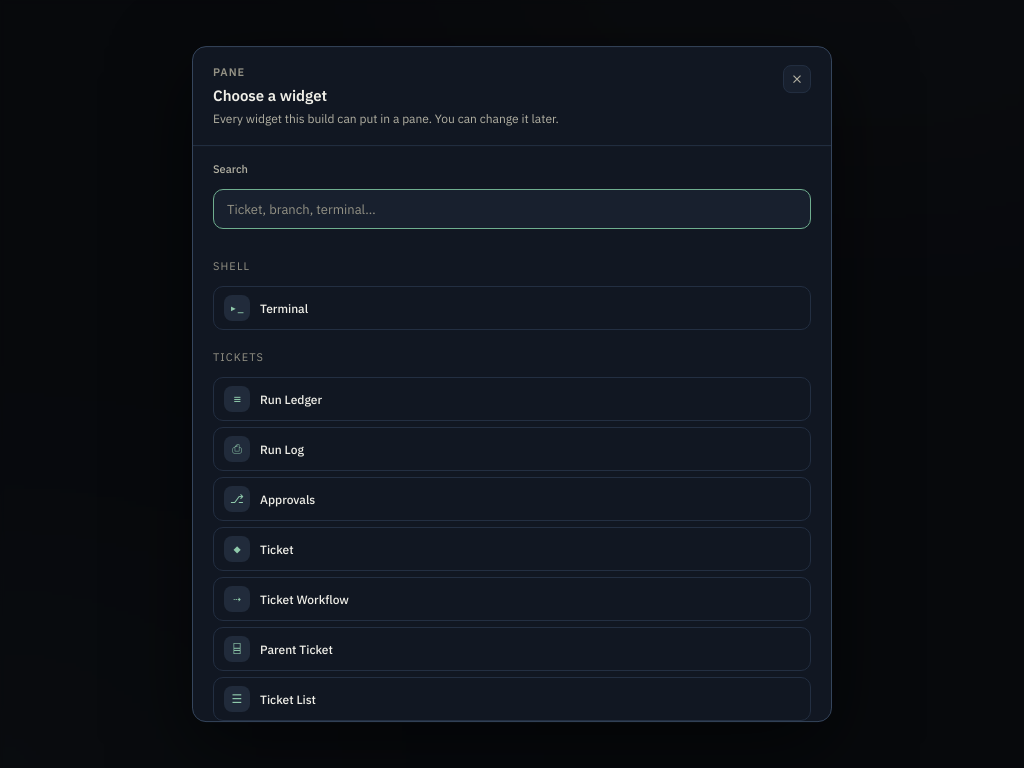
Test case: AC4 — search › says so when nothing matches, rather than showing an empty dialog
This screenshot has width=1024, height=768.
Type "zzzzz" into the search field labelled "Search" at (512, 209), box [213,189,811,229]
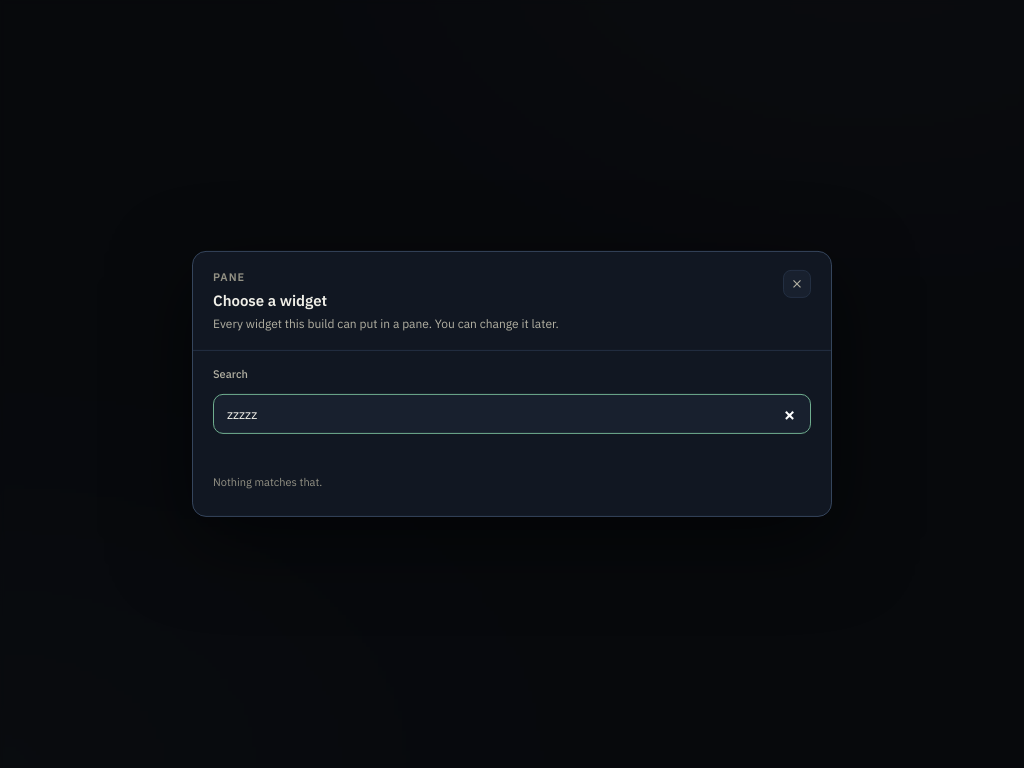
Result: the text "Nothing matches that." is shown at [213,475,322,489]
